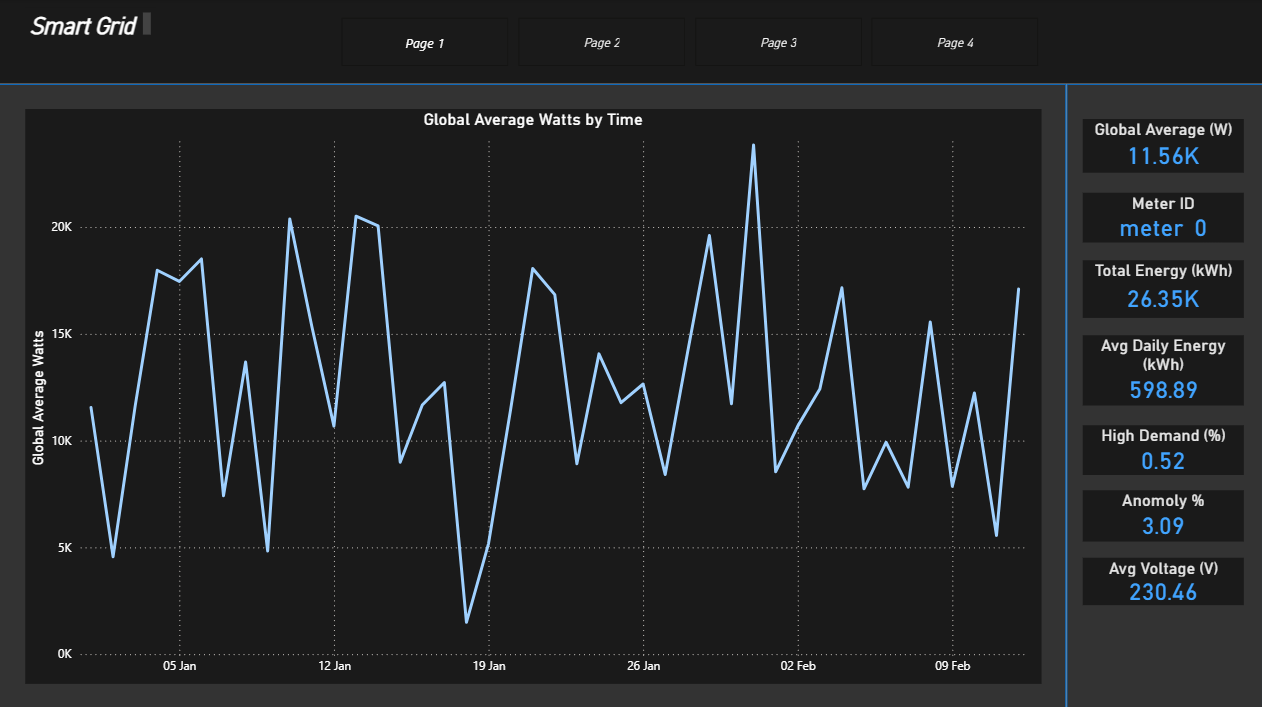

The page's visual inventory and layout, read from the dashboard file:
{"tool":"powerbi","page":{"name":"Page 1","canvas":[1280,720],"ordinal":0},"visuals":[{"type":"shape","box":[0,85.8,1081,634.4],"z":0},{"type":"shape","box":[1081,85.8,199,634.4],"z":1000},{"type":"shape","title":"Smart Grid","box":[0,0,1280,85.8],"z":2000},{"type":"card","title":"Global Average (W)","fields":{"Values":["smart_grid_curated.Global Average Watts"]},"box":[1097.9,121.6,163.4,54.5],"z":3000},{"type":"card","title":"Avg Voltage (V)","fields":{"Values":["smart_grid_curated.Avg Voltage (V)"]},"box":[1097.9,566,163.4,48.1],"z":4000},{"type":"card","title":"Meter ID","fields":{"Values":["Min(smart_grid_curated.meter_id)"]},"box":[1097.9,196.3,163.4,50.7],"z":5000},{"type":"textbox","box":[26.1,8.7,131.9,34.8],"z":6000},{"type":"pageNavigator","box":[347.1,18.7,709.1,49.8],"z":7000},{"type":"card","title":"Anomoly %","fields":{"Values":["smart_grid_curated.Anomaly %"]},"box":[1097.9,497.7,163.4,51.9],"z":8000},{"type":"card","title":"Total Energy (kWh)","fields":{"Values":["smart_grid_curated.Total Energy (kWh)"]},"box":[1097.9,264.7,163.4,58.3],"z":9000},{"type":"card","title":"High Demand (%)","fields":{"Values":["smart_grid_curated.High Demand %"]},"box":[1097.9,431.8,163.4,50.7],"z":10000},{"type":"card","title":"Avg Daily Energy (kWh)","fields":{"Values":["smart_grid_curated.Avg Daily Energy (kWh)"]},"box":[1097.9,340.6,163.4,70.9],"z":11000},{"type":"lineChart","title":"Global Average Watts by Time","fields":{"Category":["smart_grid_curated.timestamp.Variation.Date Hierarchy.Year","smart_grid_curated.timestamp.Variation.Date Hierarchy.Month","smart_grid_curated.timestamp.Variation.Date Hierarchy.Day"],"Y":["smart_grid_curated.Global Average Watts"]},"box":[26.6,111.4,1029.5,582.5],"z":12000}]}

Visuals, with their boxes on the page's 1280x720 design canvas (x1, y1, x2, y2). These are canvas units, not pixel positions in the 1262x707 screenshot, which may show the page scaled, cropped or inside an application window:
shape: {"left": 0, "top": 86, "right": 1081, "bottom": 720}
shape: {"left": 1081, "top": 86, "right": 1280, "bottom": 720}
"Smart Grid" shape: {"left": 0, "top": 0, "right": 1280, "bottom": 86}
"Global Average (W)" card: {"left": 1098, "top": 122, "right": 1261, "bottom": 176}
"Avg Voltage (V)" card: {"left": 1098, "top": 566, "right": 1261, "bottom": 614}
"Meter ID" card: {"left": 1098, "top": 196, "right": 1261, "bottom": 247}
textbox: {"left": 26, "top": 9, "right": 158, "bottom": 44}
pageNavigator: {"left": 347, "top": 19, "right": 1056, "bottom": 68}
"Anomoly %" card: {"left": 1098, "top": 498, "right": 1261, "bottom": 550}
"Total Energy (kWh)" card: {"left": 1098, "top": 265, "right": 1261, "bottom": 323}
"High Demand (%)" card: {"left": 1098, "top": 432, "right": 1261, "bottom": 482}
"Avg Daily Energy (kWh)" card: {"left": 1098, "top": 341, "right": 1261, "bottom": 412}
"Global Average Watts by Time" lineChart: {"left": 27, "top": 111, "right": 1056, "bottom": 694}
